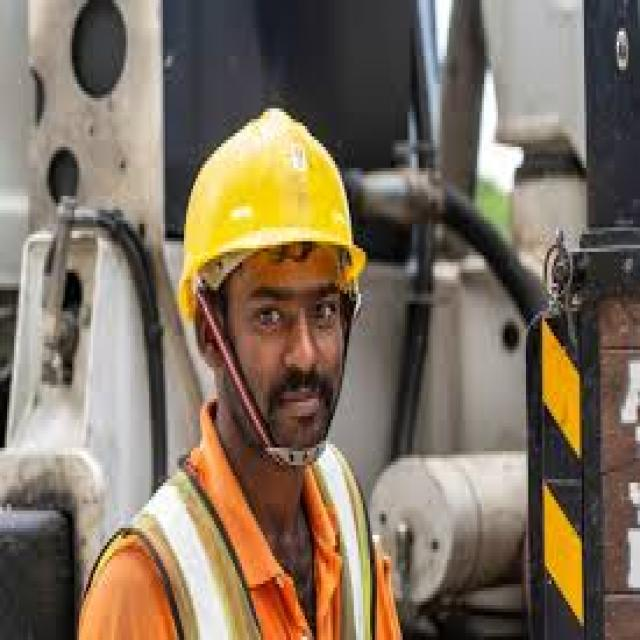Reflective-Jacket: (82, 423, 388, 640)
Safety-Helmet: (170, 101, 372, 301)
